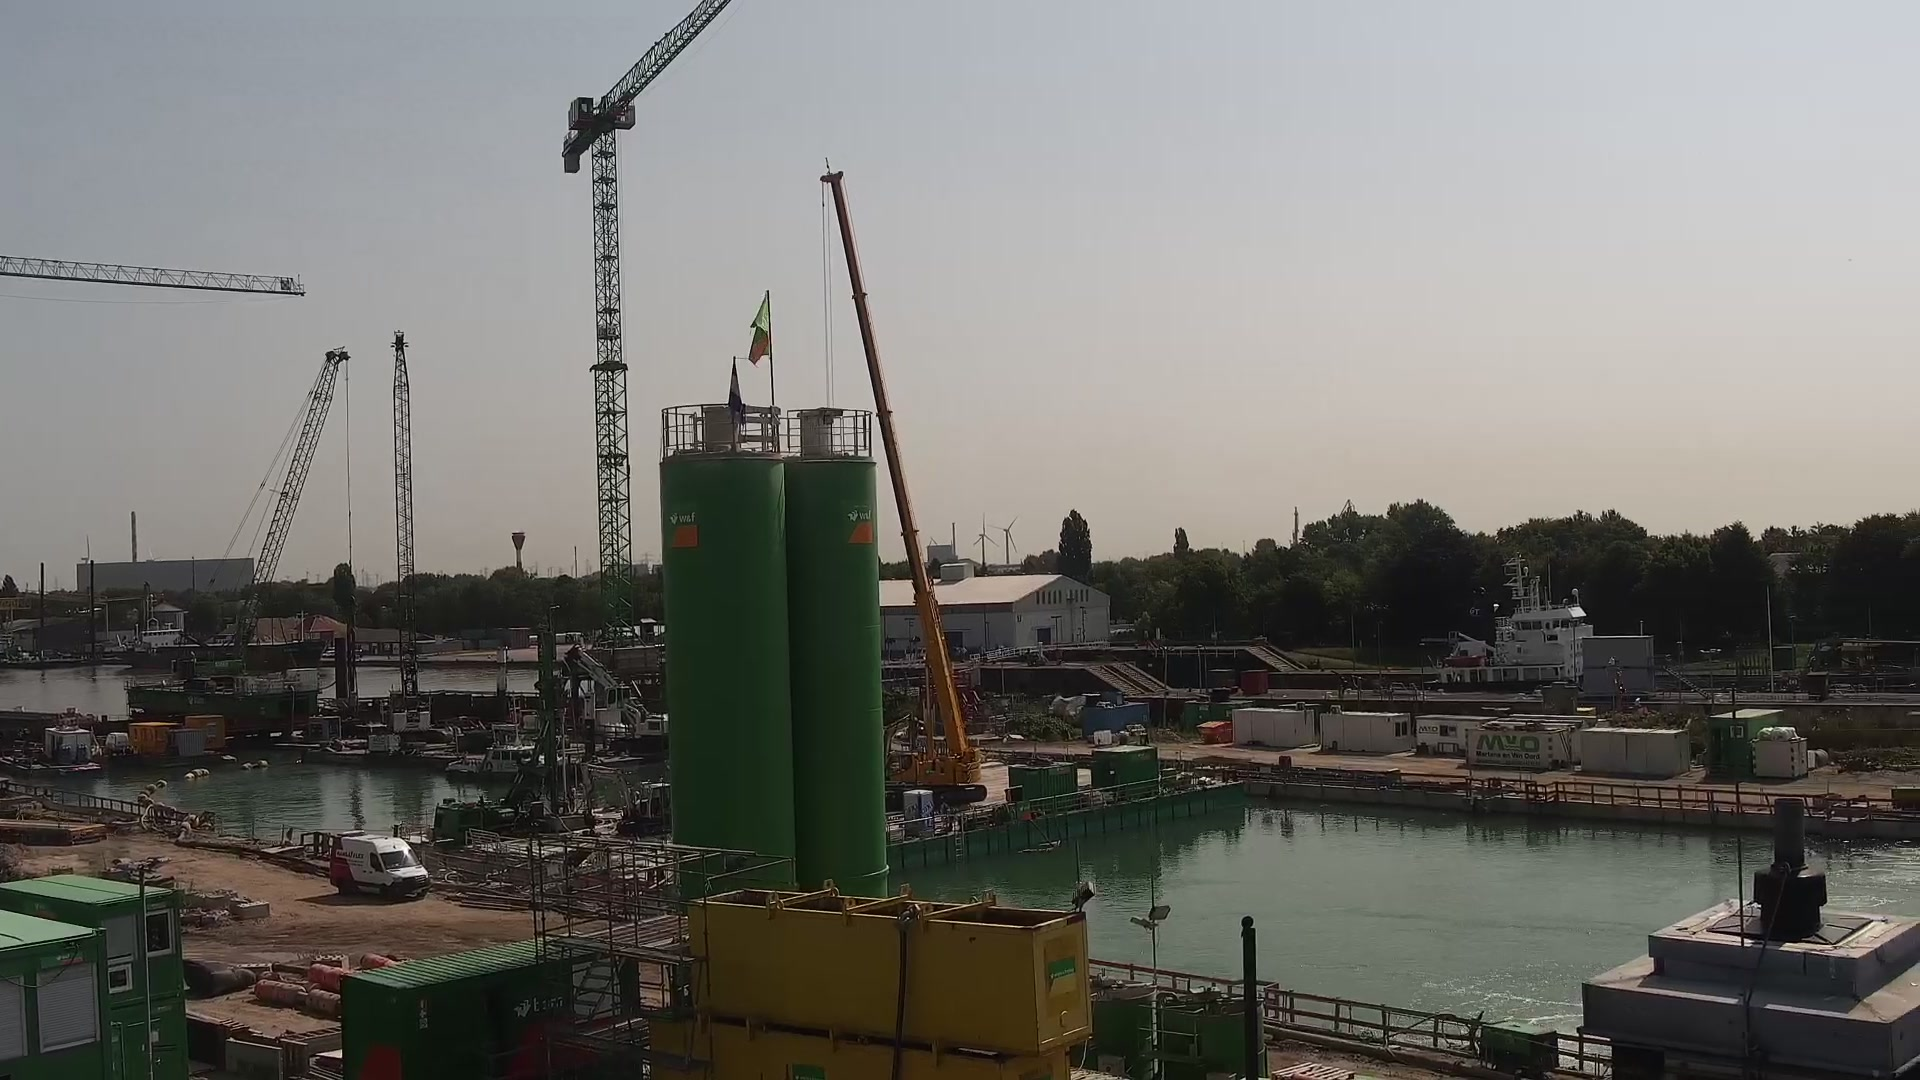land: (330, 829, 433, 901)
sea: (1419, 547, 1597, 688), (116, 592, 328, 669), (443, 694, 553, 777)
